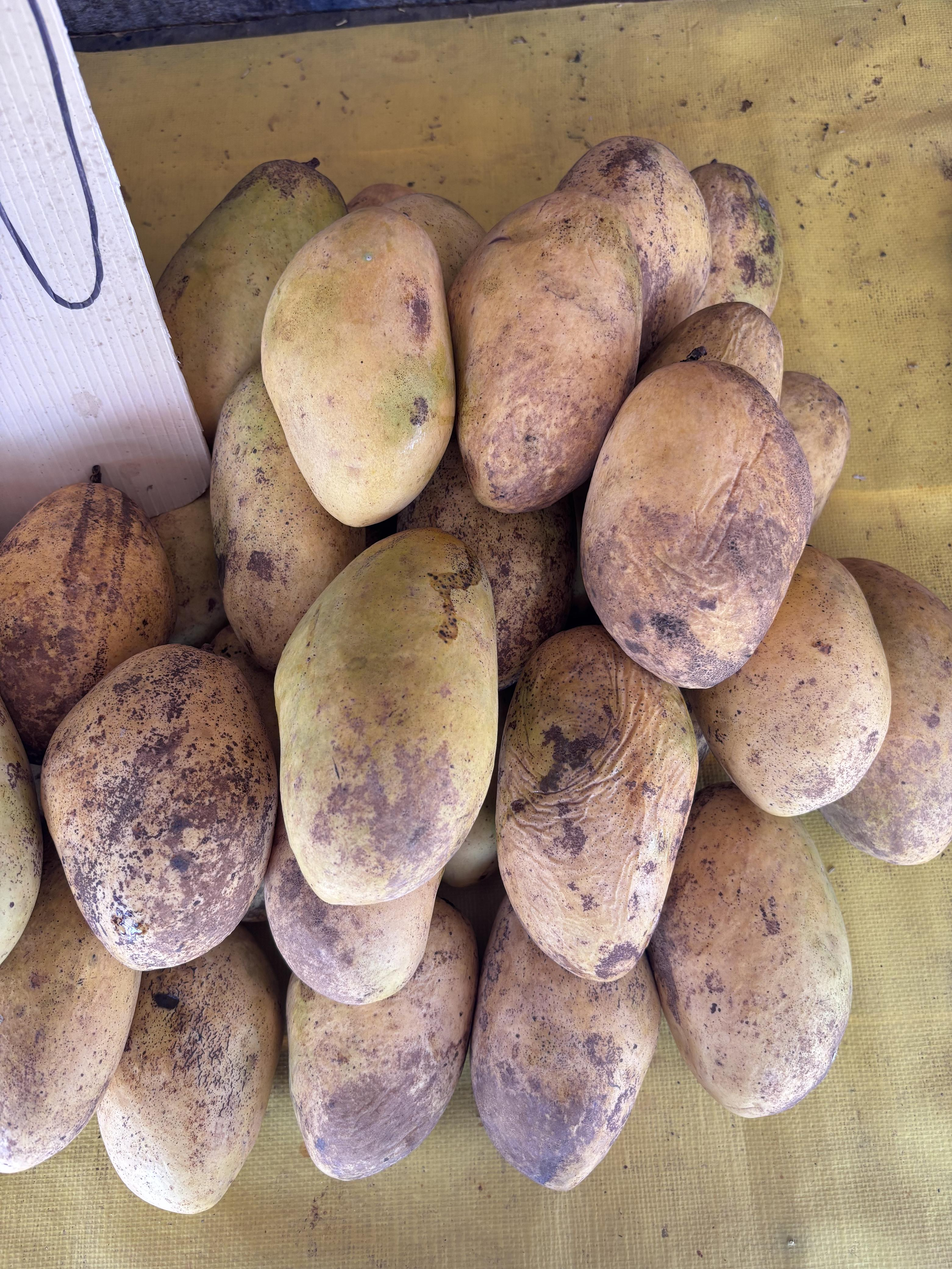mango: (275, 528, 497, 904), (42, 645, 278, 970), (581, 361, 813, 688), (497, 626, 697, 980), (261, 207, 455, 527), (449, 190, 641, 513)
occluded: (648, 786, 851, 1116), (472, 898, 660, 1190), (689, 546, 891, 816), (287, 900, 478, 1180), (157, 159, 346, 441), (98, 926, 282, 1214), (0, 483, 176, 760), (211, 368, 364, 671), (0, 851, 141, 1173), (398, 439, 576, 689), (822, 558, 952, 864), (557, 137, 711, 358), (637, 302, 783, 401), (691, 161, 783, 315), (152, 491, 227, 646), (0, 698, 43, 962), (780, 371, 850, 522), (384, 192, 484, 294)
